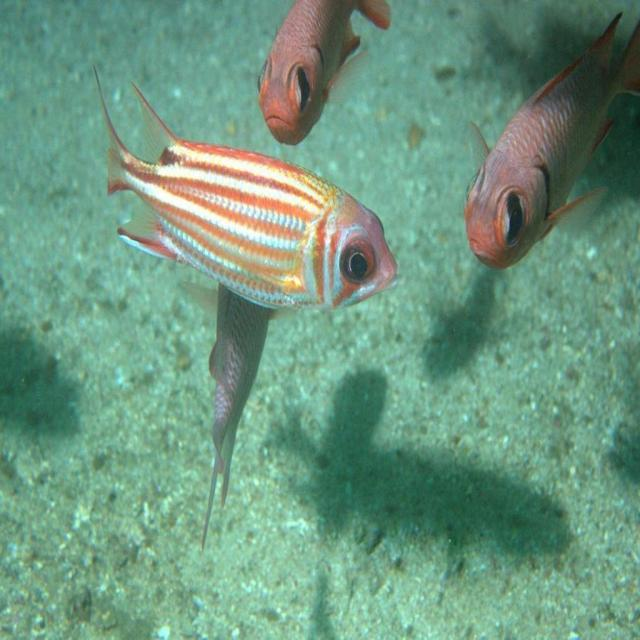Asker Baligi: (91, 107, 417, 312), (462, 9, 638, 271)
